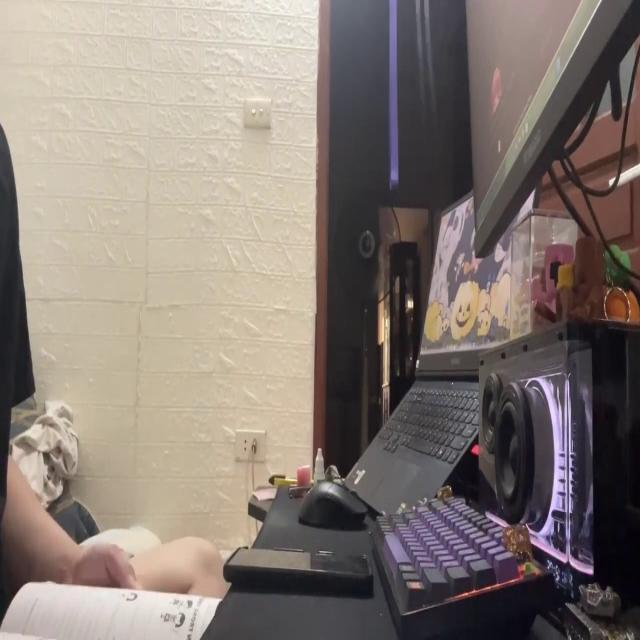book: (2, 578, 222, 640)
laptop: (341, 174, 540, 526), (460, 0, 640, 260)
phone: (223, 536, 375, 606)
student: (0, 122, 228, 596)
